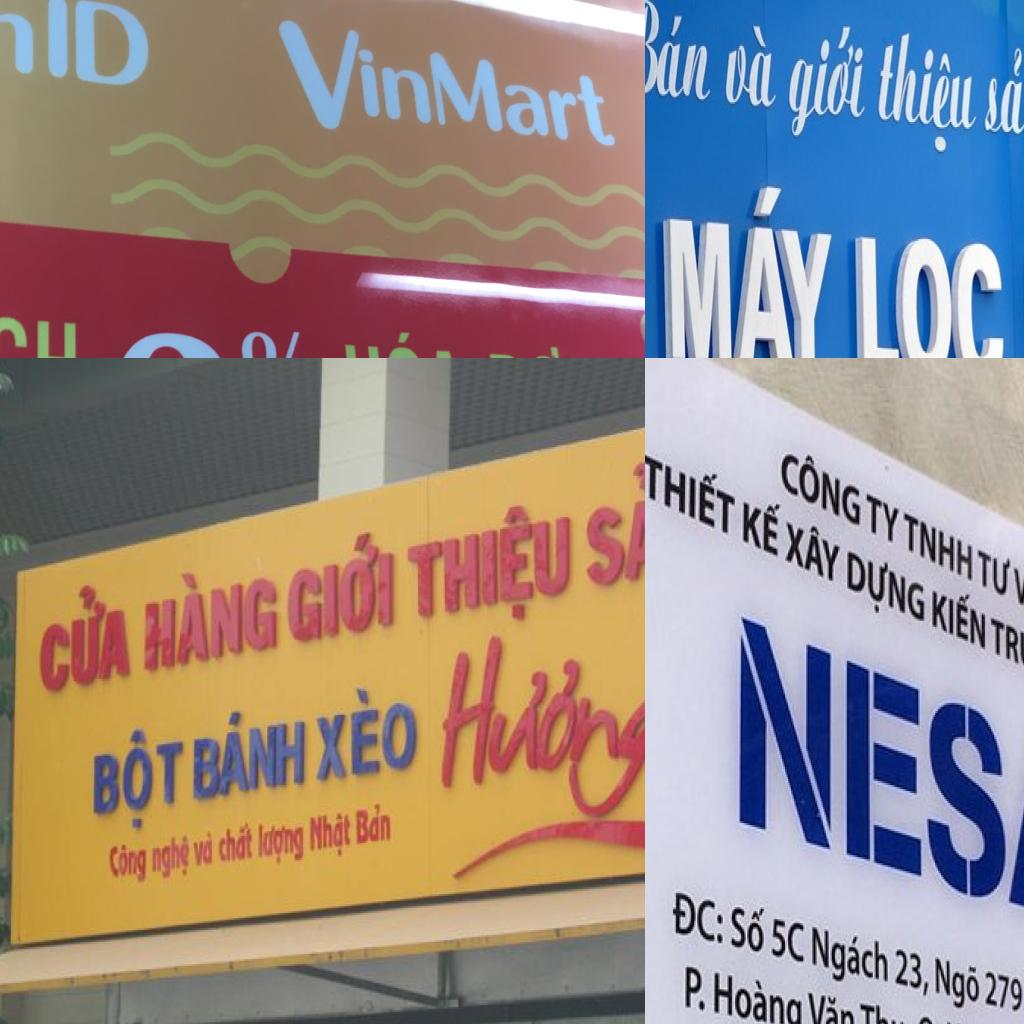text: (732, 610, 1024, 937), (272, 10, 622, 153), (432, 600, 645, 834), (660, 174, 840, 358), (405, 495, 572, 636), (855, 234, 1008, 358), (144, 554, 279, 676), (872, 26, 982, 160), (286, 522, 395, 650), (0, 0, 152, 90), (192, 698, 308, 804), (38, 577, 133, 701), (90, 718, 186, 836), (313, 679, 419, 785), (785, 20, 869, 142), (645, 440, 739, 538), (584, 449, 645, 594), (779, 432, 865, 532), (645, 0, 720, 104), (844, 544, 929, 632), (811, 918, 891, 998), (710, 959, 806, 1024), (905, 504, 976, 584), (0, 293, 81, 358), (723, 22, 782, 110), (781, 512, 847, 584), (930, 580, 990, 652), (982, 41, 1024, 141), (339, 329, 478, 358), (236, 316, 331, 358), (668, 884, 728, 950), (738, 486, 785, 560), (933, 950, 985, 1014), (989, 605, 1024, 685), (308, 807, 354, 864), (257, 816, 305, 870), (729, 896, 768, 962), (894, 942, 932, 1004), (983, 963, 1024, 1019), (806, 979, 857, 1024), (977, 540, 1014, 602), (770, 908, 808, 968), (150, 831, 192, 884), (865, 486, 903, 544), (106, 840, 149, 890), (354, 800, 393, 848), (217, 818, 254, 868), (682, 960, 712, 1018), (857, 999, 915, 1024), (191, 830, 216, 870), (1013, 558, 1024, 626), (916, 1007, 944, 1024)
